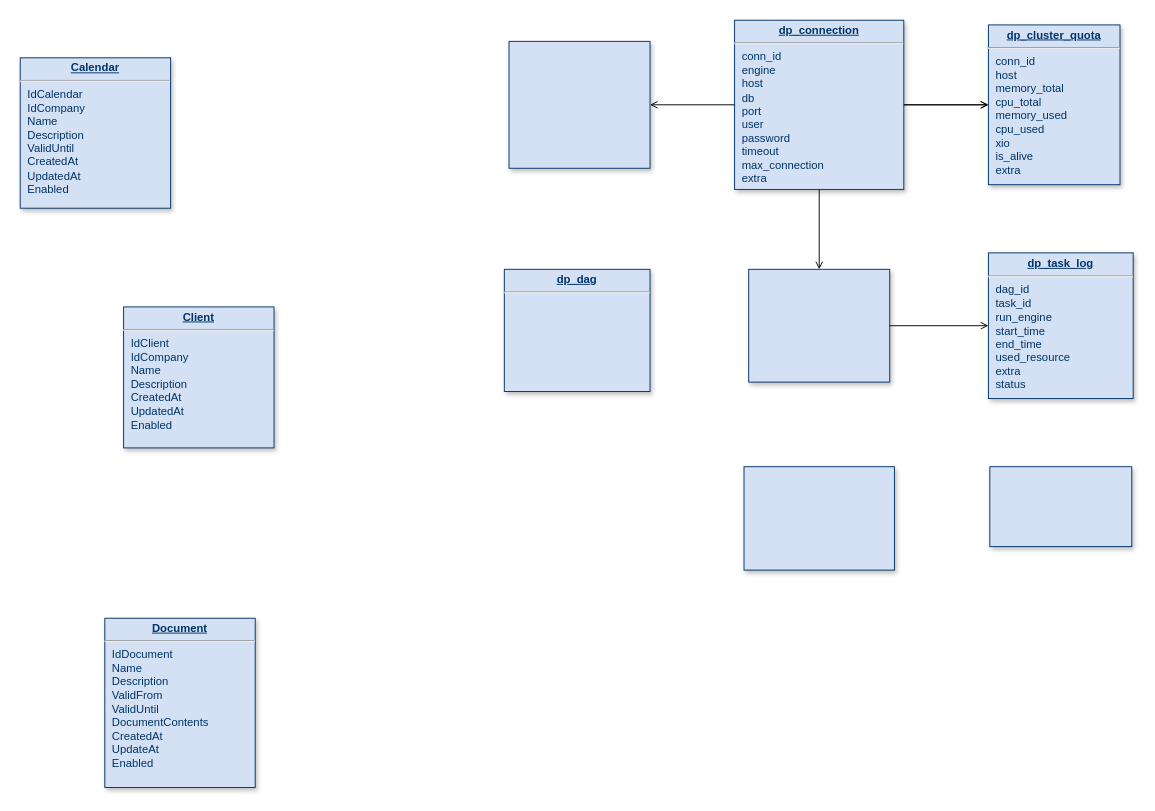
This 1155x811 diagram has some shape labels left out. Here are the shapes that lost their labels. From the top down, the centre of each, then its label:
At point (580, 106): "dp_map_stat conn_id dbname tbname cur_partition partition_num save_partitions".
At point (819, 327): "dp_task_v2 dag_id task_id operator content op_kwargs".
At point (819, 519): "dp_stream".
At point (1061, 507): "dp_task_publish event publish_progress args".
